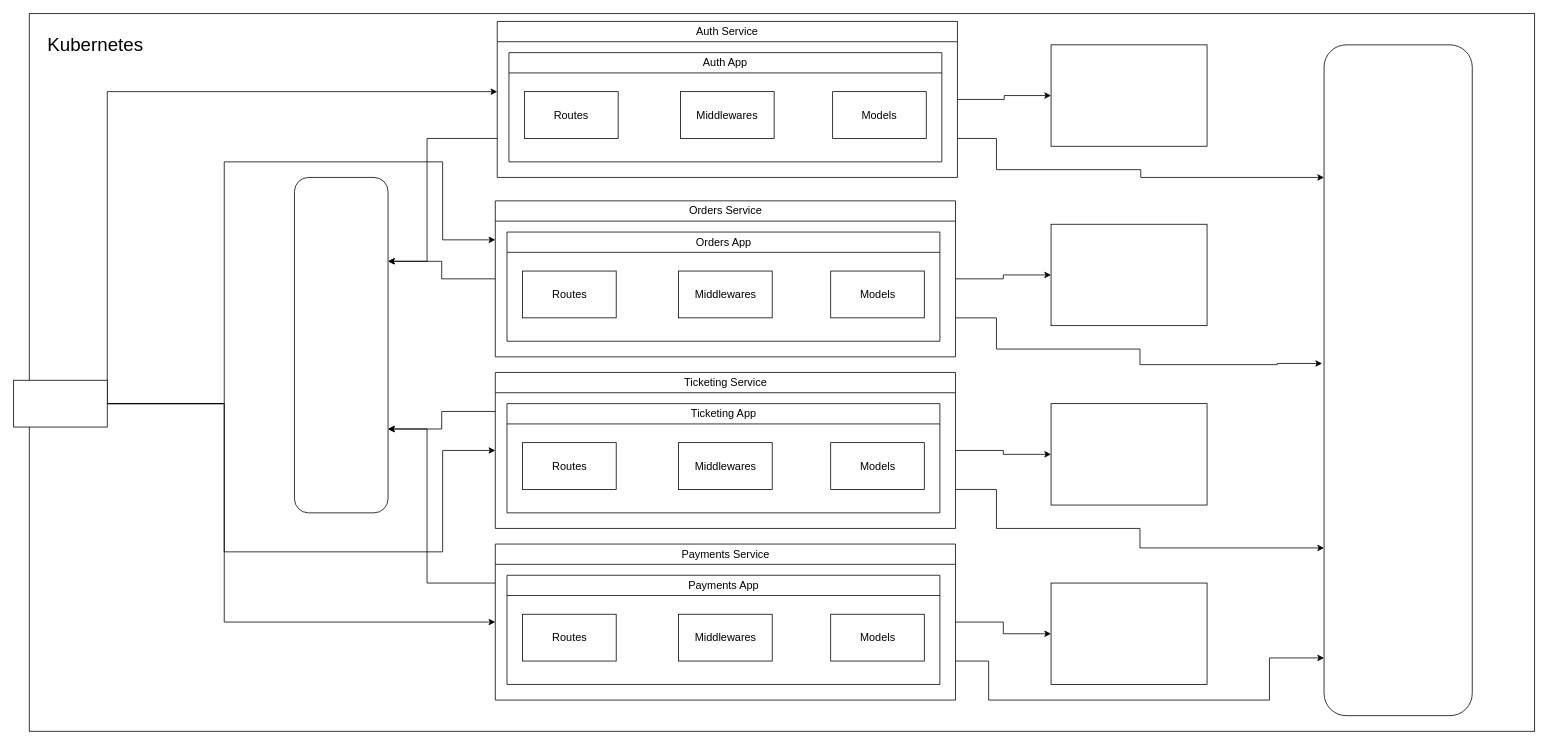
Image size: 1548x745. Some labels were removed from this diagram. Here are the shapes that lost their labels. From the top down, the centre of each, then its label:
At (x=1128, y=95): "MongoDB for Auth Service".
At (x=1128, y=274): "MongoDB for Orders Service".
At (x=341, y=345): "Common Library".
At (x=1397, y=380): "Event Bus NATS.io".
At (x=60, y=403): "Ingress-Nginx".
At (x=1128, y=454): "MongoDB for Ticketing Service".
At (x=1128, y=633): "MongoDB for Payments Service".
